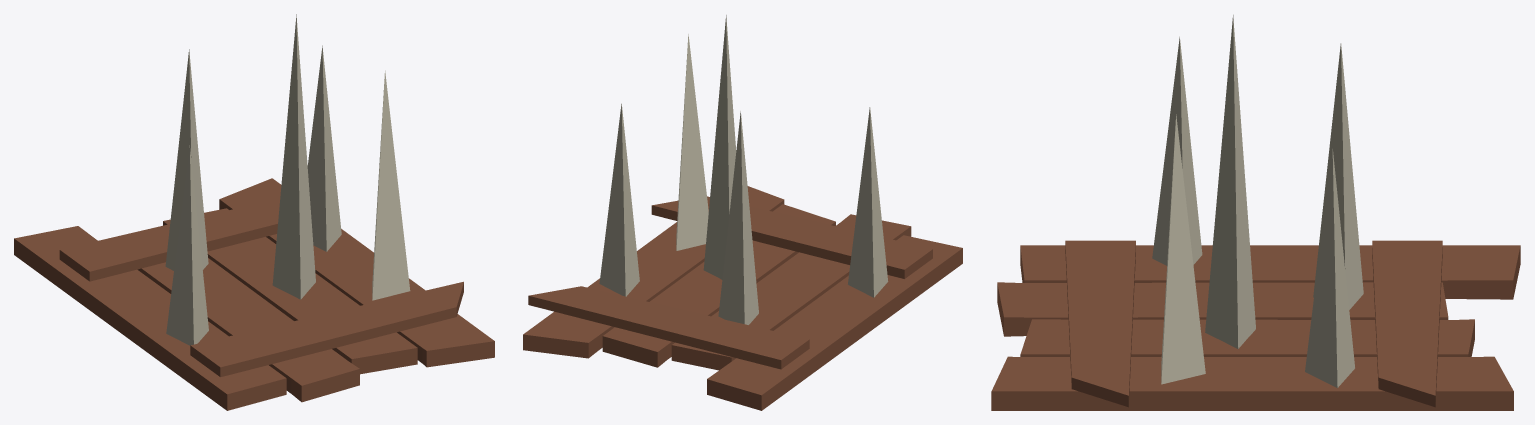
Rendered from LPWarPack_SpikeTrapA.fbx.
3 renders of one model, left to right at view 1: azimuth 30°, elevation 25°; view 2: azimuth 150°, elevation 25°; view 3: azimuth 270°, elevation 25°, orthographic. The views are drawn at different scales.
Visible parts, largest first — view 1: SpikeTrapA; view 2: SpikeTrapA; view 3: SpikeTrapA.
Boxes of the visible parts, left/top/right/bottom form: SpikeTrapA: left=14, top=14, right=494, bottom=410; SpikeTrapA: left=523, top=15, right=962, bottom=410; SpikeTrapA: left=991, top=14, right=1520, bottom=410.
Size of the model in its own units: 93.36 by 91.89 by 129.
